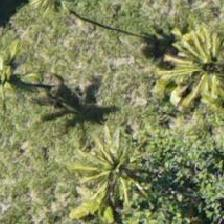coconut_tree: (81, 133, 171, 223), (155, 35, 223, 125)
